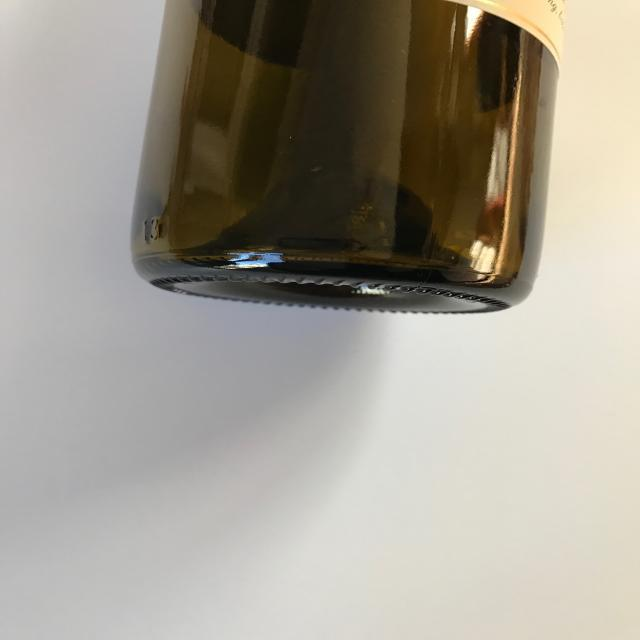glass: (128, 2, 563, 320)
